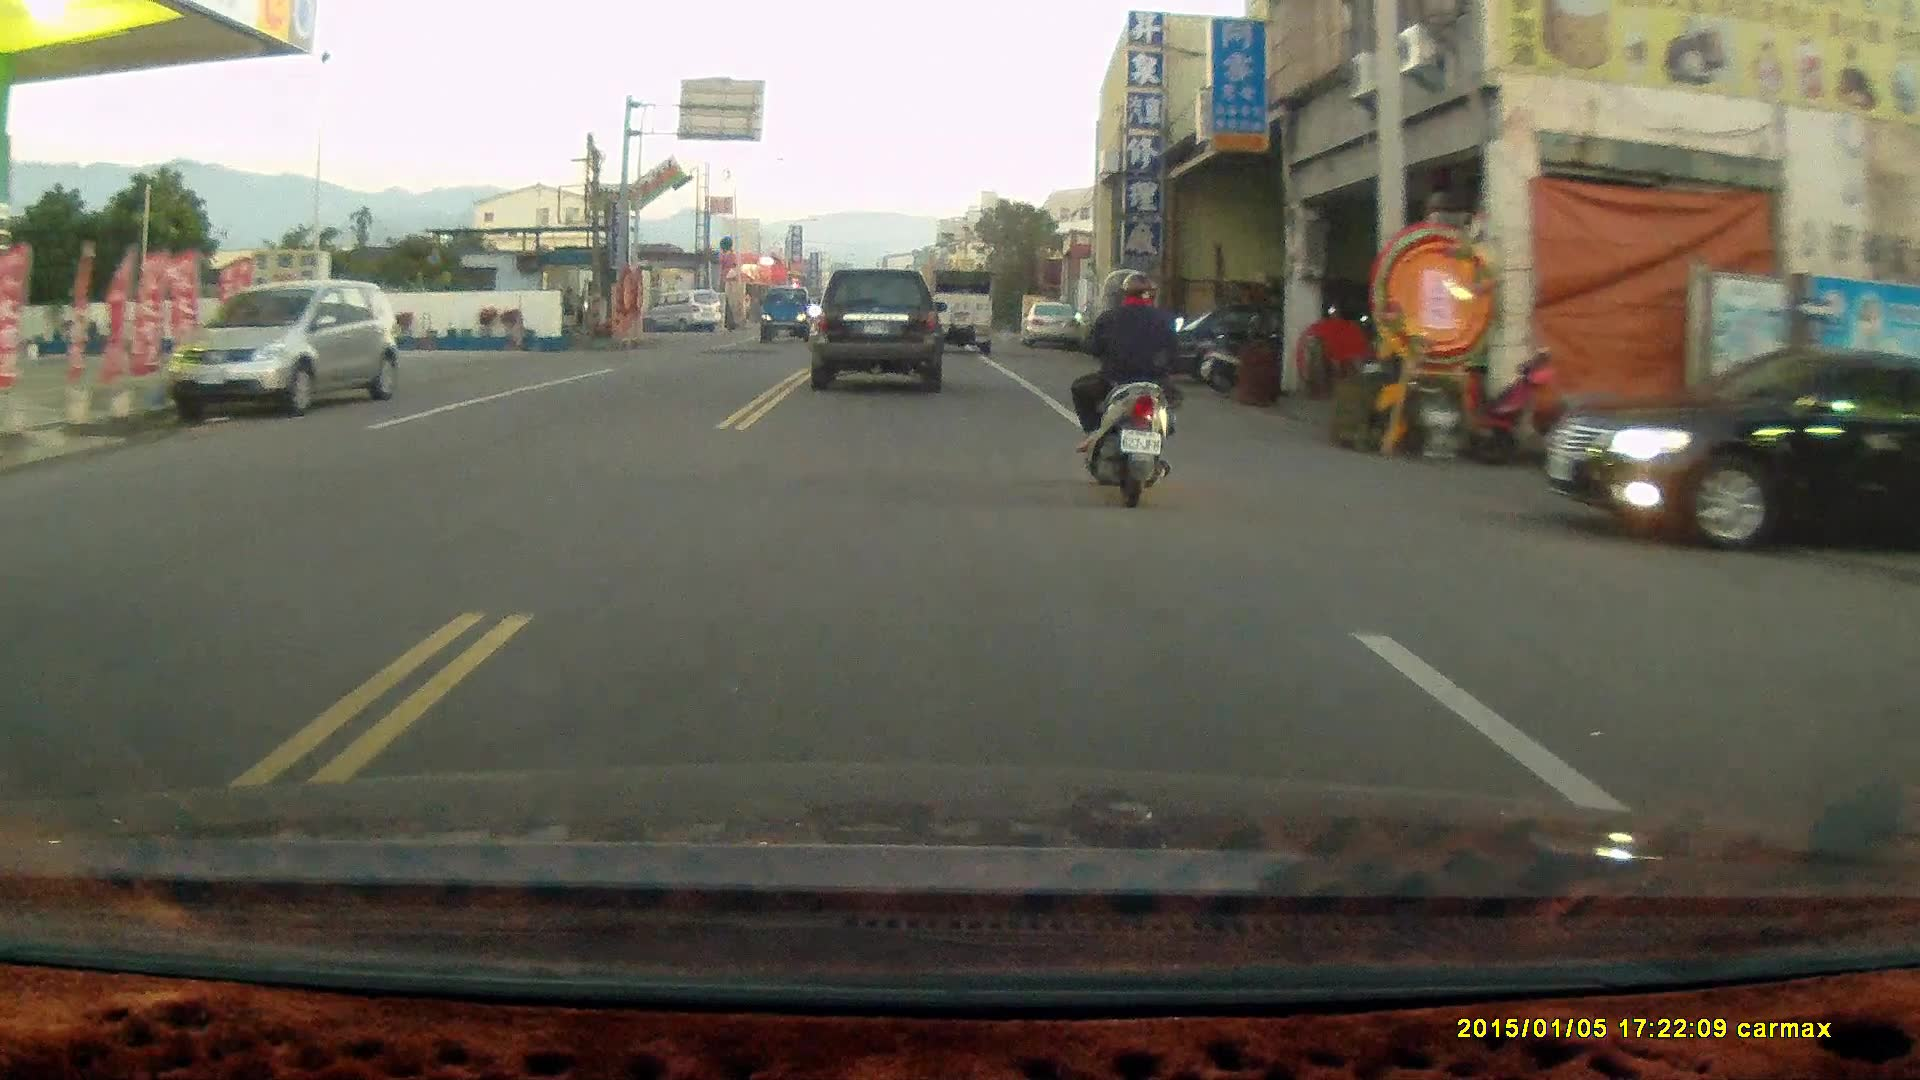rider: (1069, 268, 1181, 508)
vehicle: (1548, 343, 1916, 560), (161, 274, 404, 419), (809, 268, 953, 398), (927, 269, 995, 358), (642, 288, 723, 333), (1019, 303, 1079, 347)
